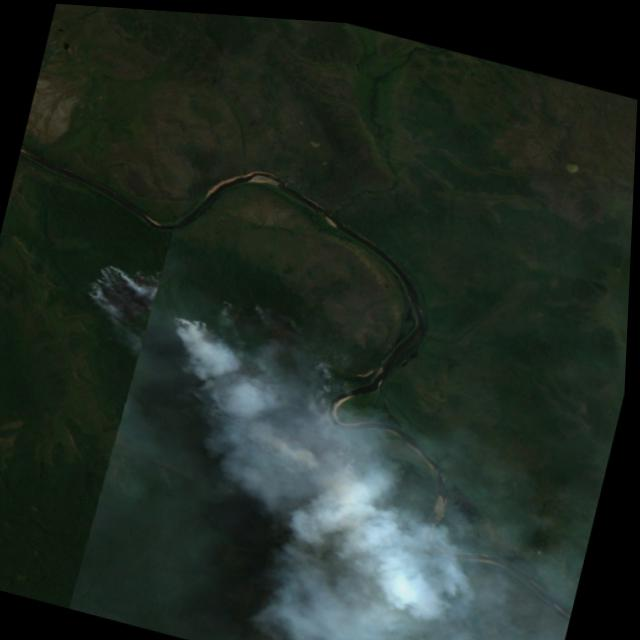fire: (49, 247, 408, 508)
